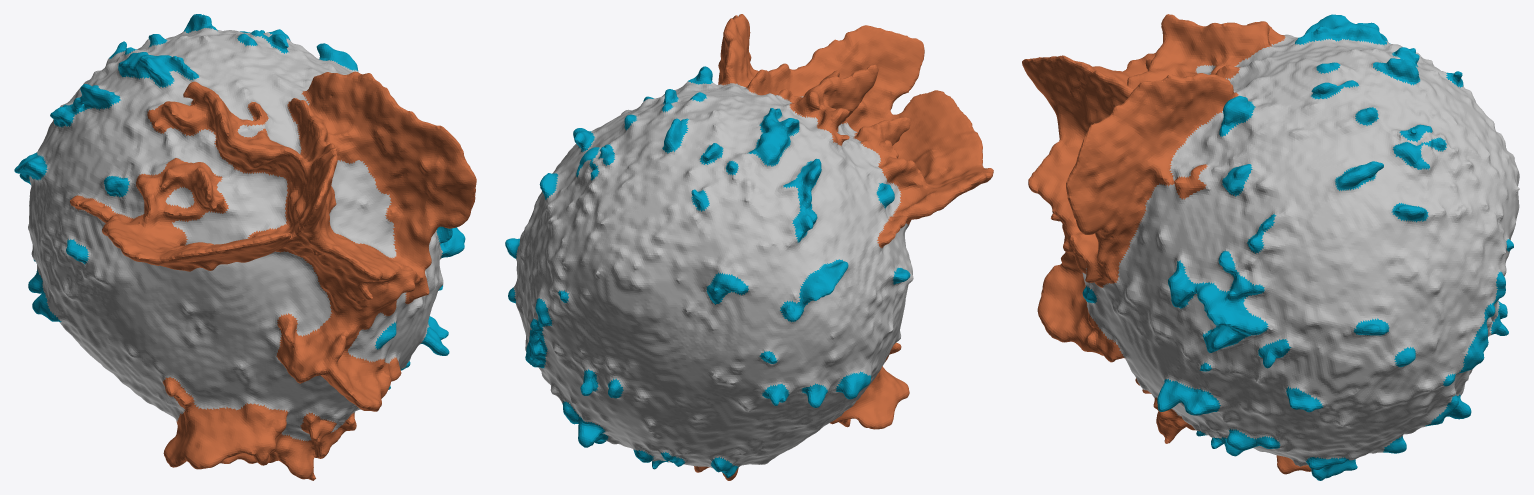
The picture shows the model from 3 angles, left to right: view 1: azimuth 30°, elevation 25°; view 2: azimuth 150°, elevation 25°; view 3: azimuth 270°, elevation 25°; orthographic projection. The views are drawn at different scales.
Size of the model in its own units: 158 by 158 by 172.
